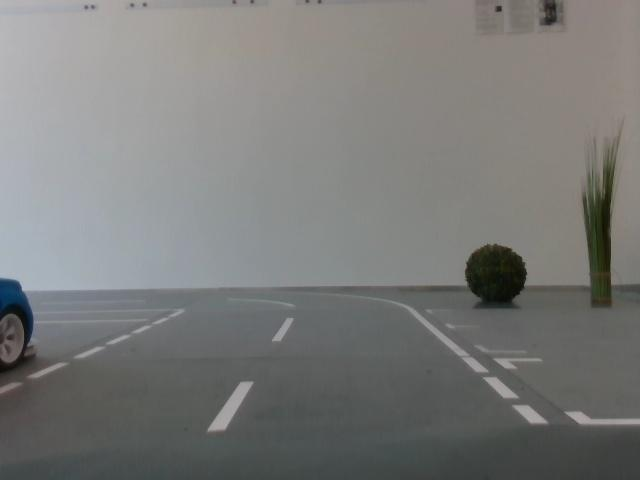car: (1, 267, 44, 383)
potted plant: (577, 125, 618, 311), (460, 243, 530, 312)
